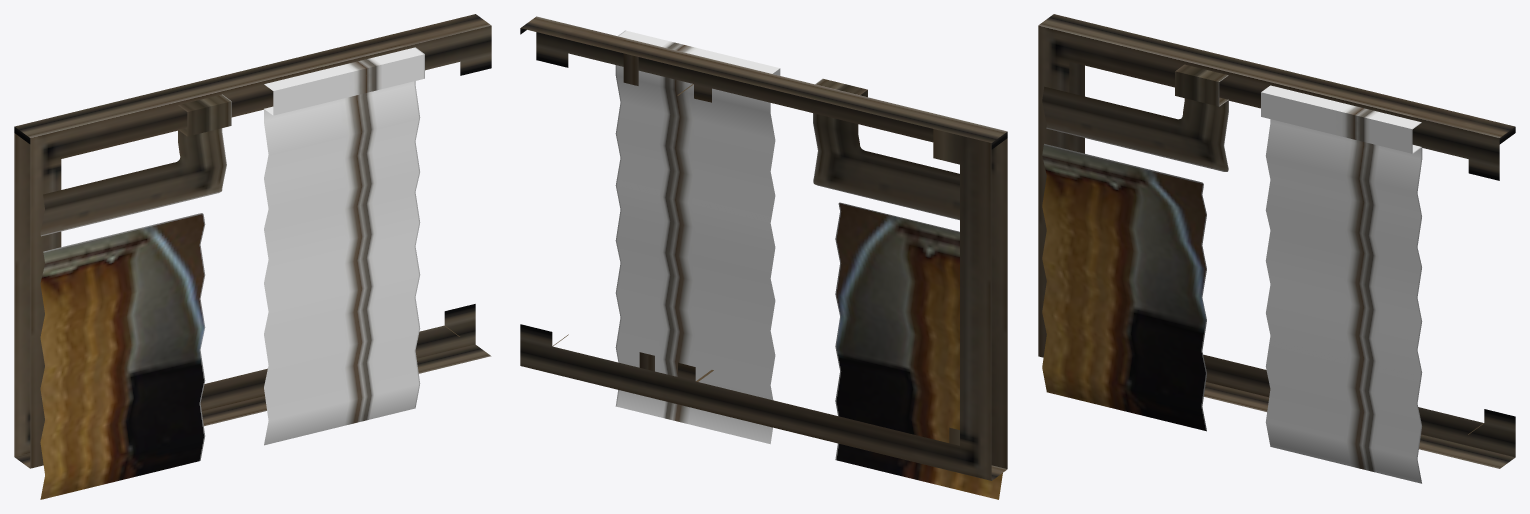
The model's file is window_w_blinds.FBX.
The picture shows the model from 3 angles, left to right: view 1: azimuth 30°, elevation 25°; view 2: azimuth 150°, elevation 25°; view 3: azimuth 330°, elevation 25°; orthographic projection. The views are drawn at different scales.
Visible parts, largest first — view 1: window_frame_2; view 2: window_frame_2; view 3: window_frame_2.
Part boxes in pixels (<box>): window_frame_2: <box>14,14,491,499</box>; window_frame_2: <box>520,16,1007,499</box>; window_frame_2: <box>1038,14,1515,483</box>.
Bounding box in the file's own units: 84.12 × 63.37 × 8.18.
